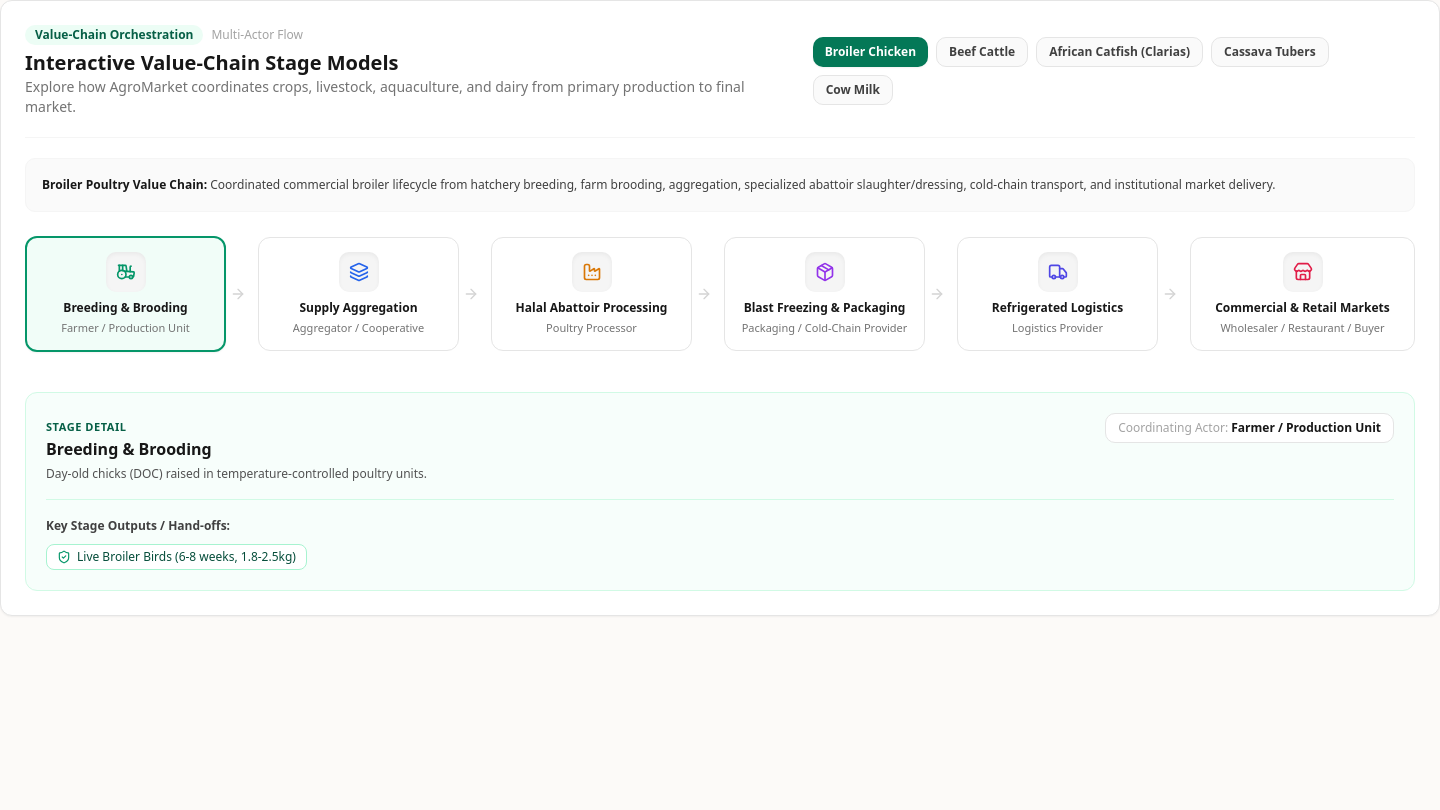
Phase 2.0 Ecosystem UI Component Tests › 2. renders ValueChainVisualizer and allows switching between commodities
Expected: the heading "Interactive Value-Chain Stage Models" is shown, [25,49,398,76]
Expected: the button "Broiler Chicken" is shown, [813,37,928,67]
Note: Click on Beef Cattle tab
Click the button "Beef Cattle": [982, 52] box [936,37,1028,67]
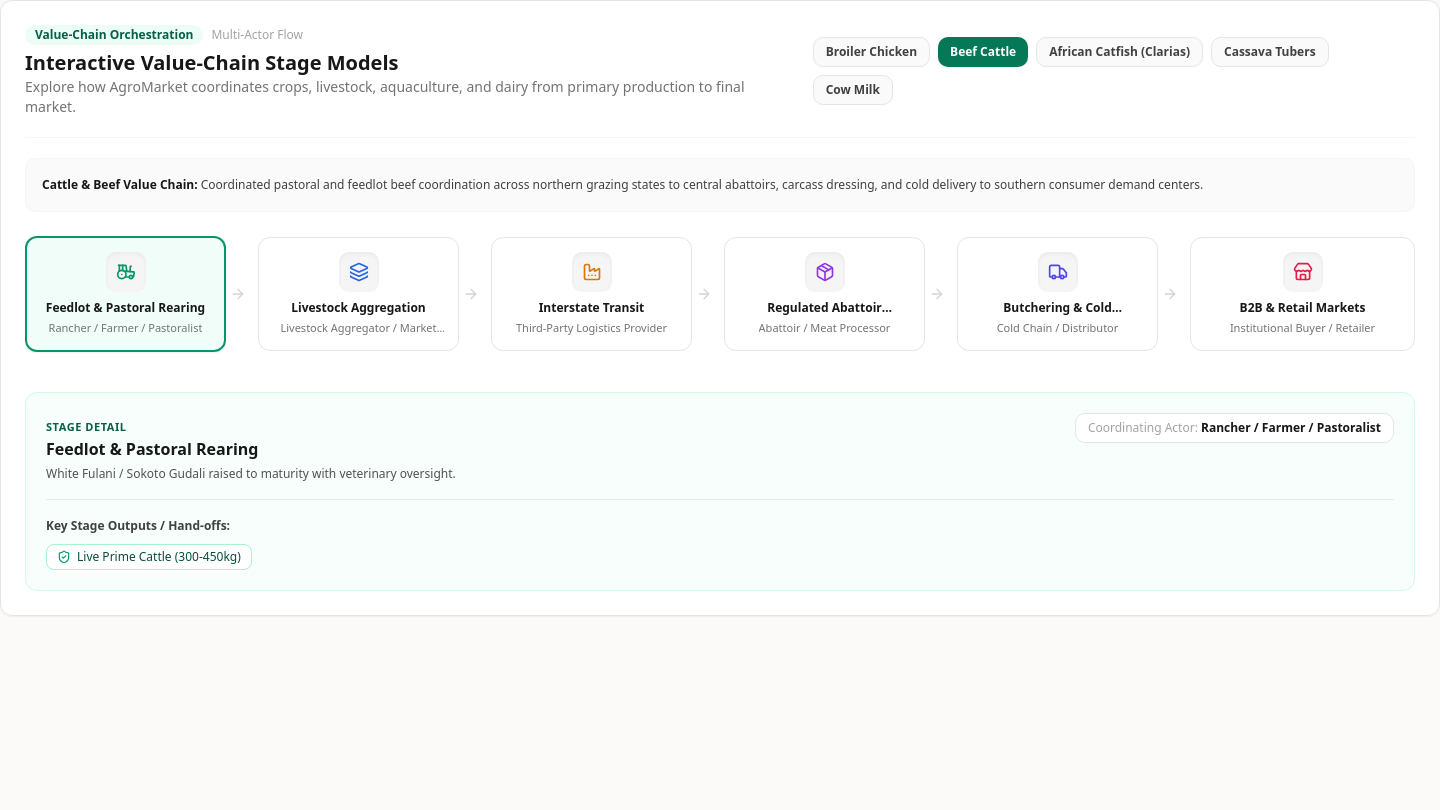
Now the text "Cattle & Beef Value Chain:" is shown, box [42,176,198,193]
Now the text "Feedlot & Pastoral Rearing" is shown, box [46,300,205,316]
